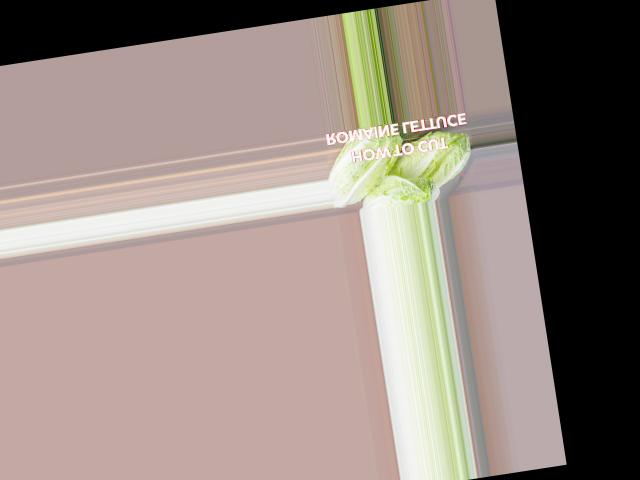lettuce: (378, 119, 480, 200)
